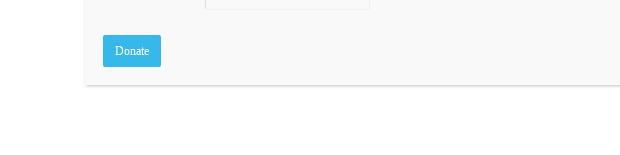fake_button: (95, 31, 167, 78)
